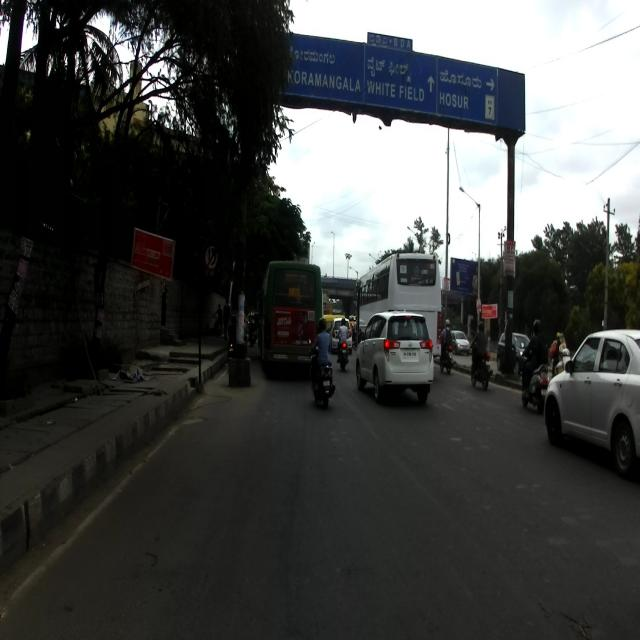bus: (257, 260, 323, 374)
car: (543, 329, 639, 475), (355, 310, 434, 401), (497, 330, 530, 378), (448, 330, 469, 357)
motorcycle: (470, 344, 493, 390)
scooter: (520, 341, 549, 415), (307, 337, 335, 410)
